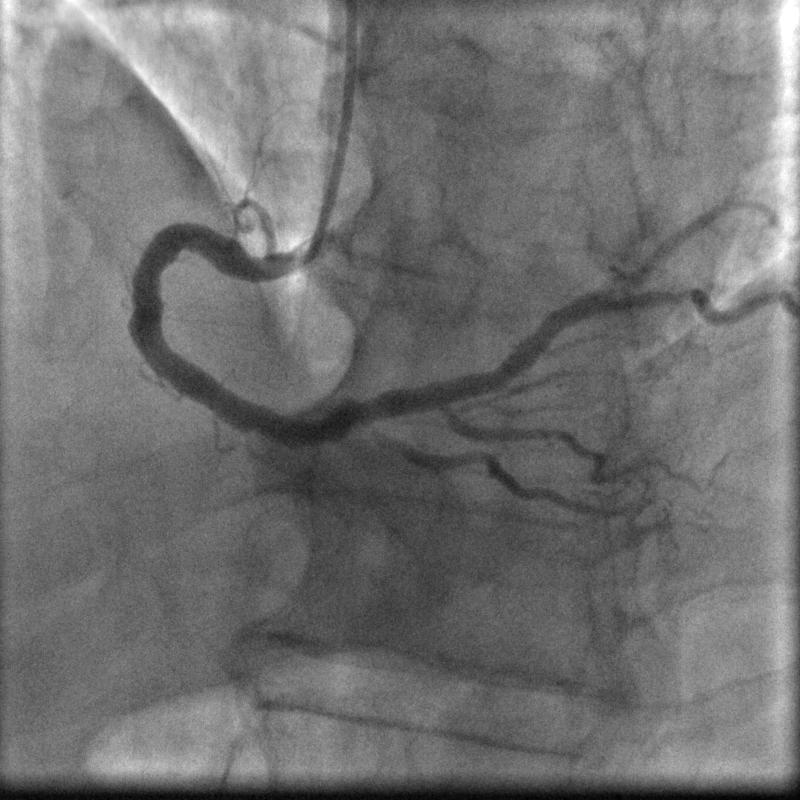Stenosis: (661, 282, 702, 305)
